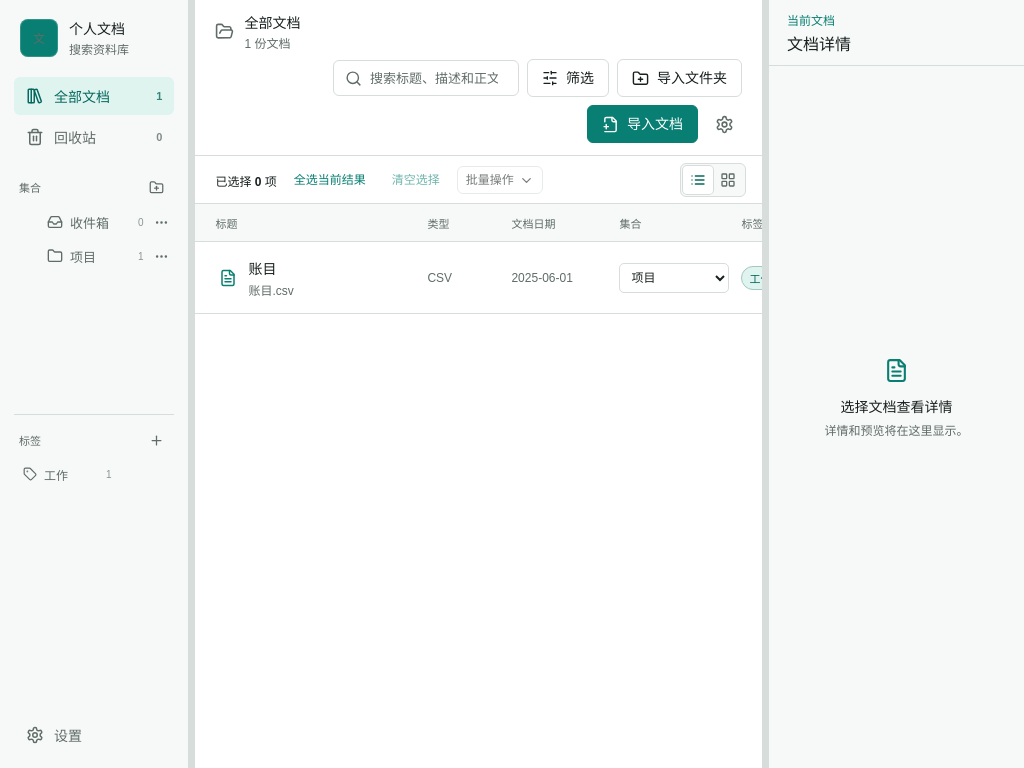
全文搜索与筛选 › shows cell text as the snippet for a table document and keeps formula-like cells inert
The image size is (1024, 768).
Expected: the text "账目" is shown, [248,260,276,276]
Type "差旅报销" into the search field named "搜索文档" at [440, 78], box [370,61,511,95]
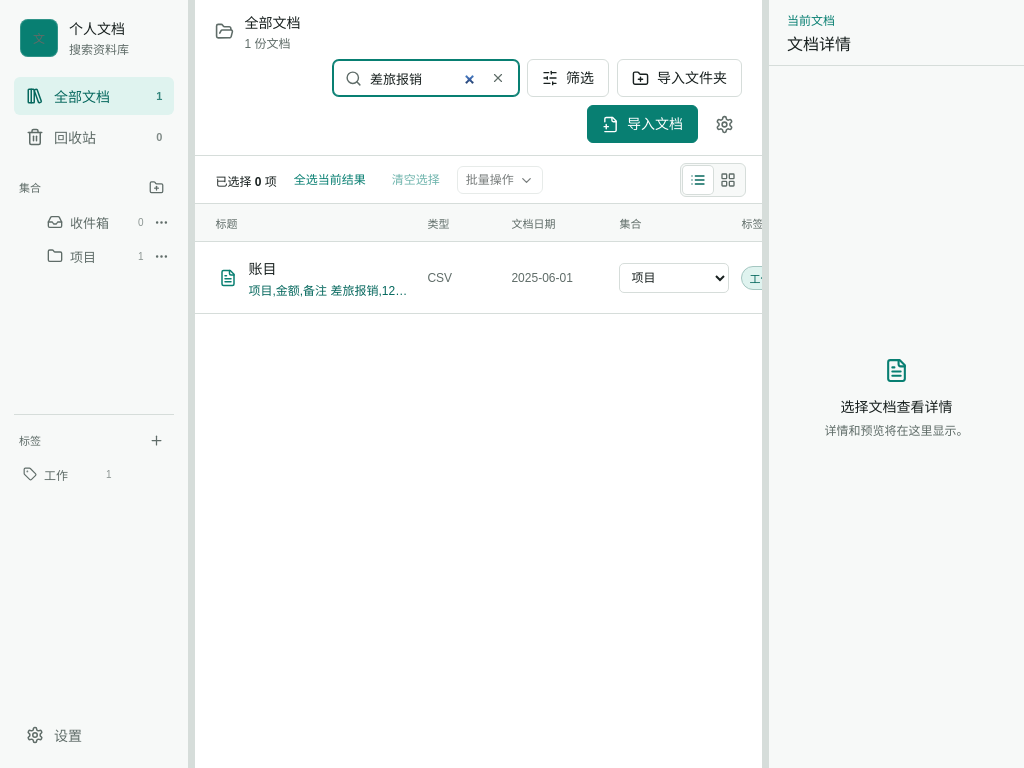
Result: the text "项目,金额,备注 差旅报销,1200,含\"引号\"内容 =SUM(B2:B3),300,<b>加粗</b>" is shown at [248,280,411,298]
Clear the search field named "搜索文档" at [424, 78], box [370,61,477,95]
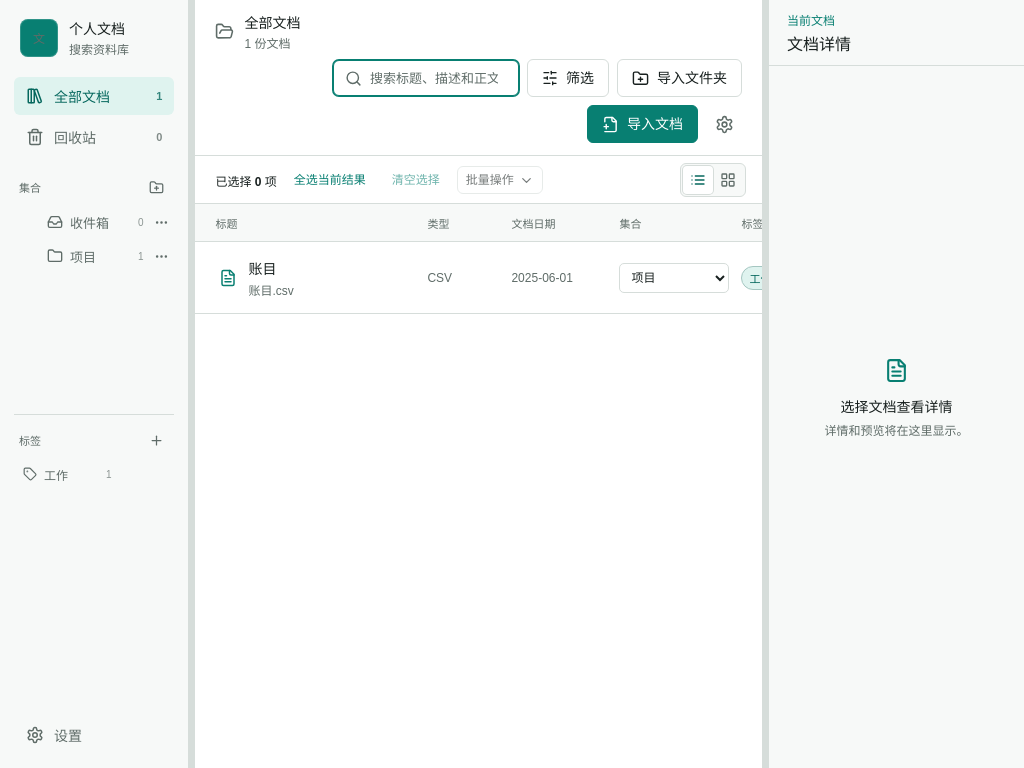
Type "SUM" into the search field named "搜索文档" at [440, 78], box [370,61,511,95]
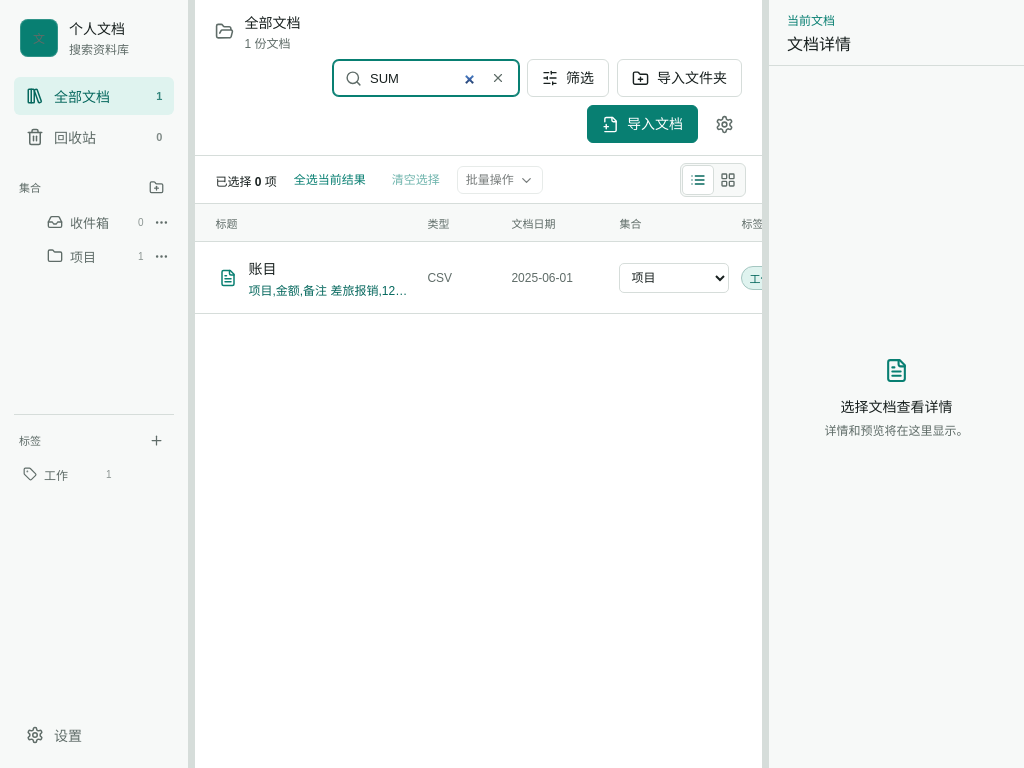
Result: the text "项目,金额,备注 差旅报销,1200,含\"引号\"内容 =SUM(B2:B3),300,<b>加粗</b>" is shown at [248,280,411,298]
